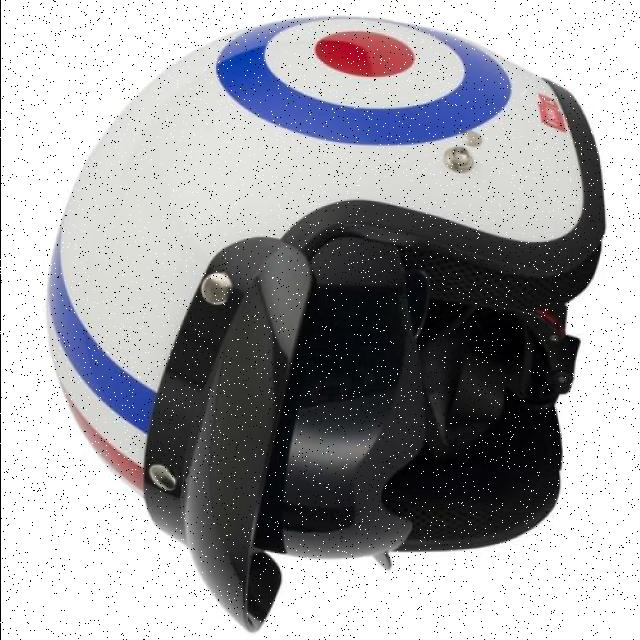Helmet: (45, 12, 608, 631)
